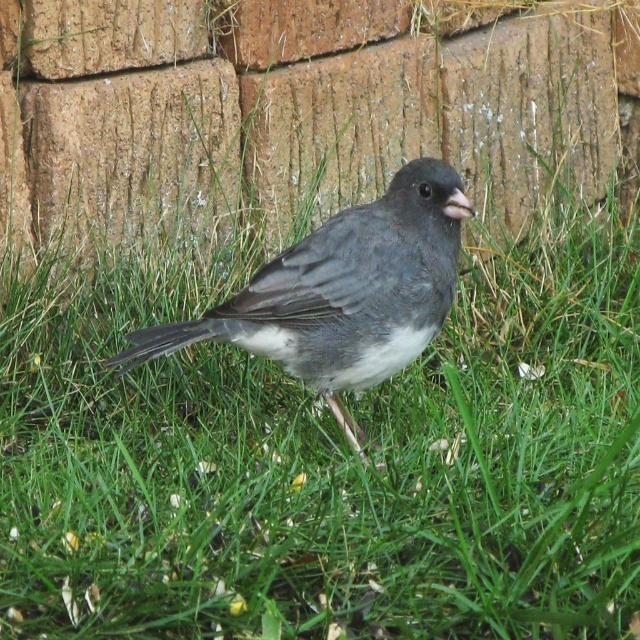Sparrow: (104, 157, 475, 474)
